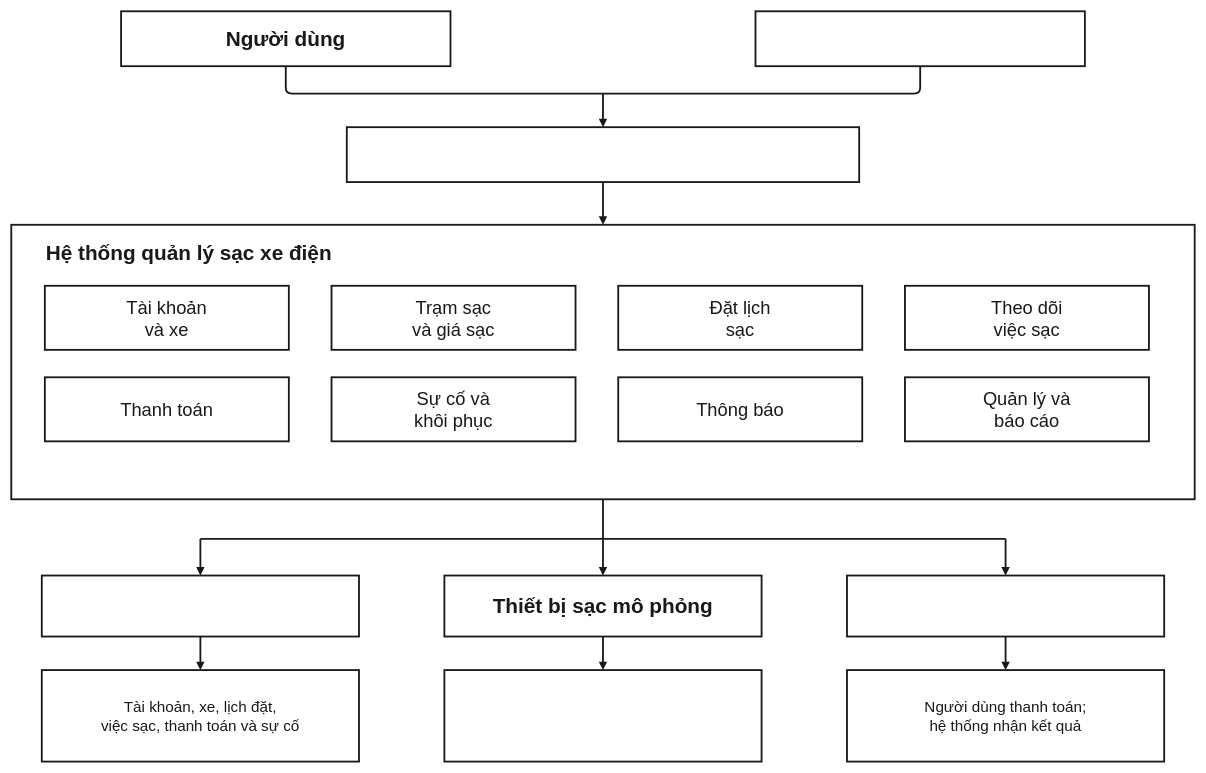
The diagram is 1206 pixels wide and 773 high, and some of its shapes have lost their labels. The centre of each missing label's shape, as x and y in pixels:
Nhận lệnh sạc; gửi trạng thái, số đo và thông báo sự cố: pixel 602 715
Nơi lưu dữ liệu: pixel 200 605
Quản trị viên: pixel 919 38
Thanh toán VNPay: pixel 1005 605
Trang web sạc xe điện: pixel 603 154
